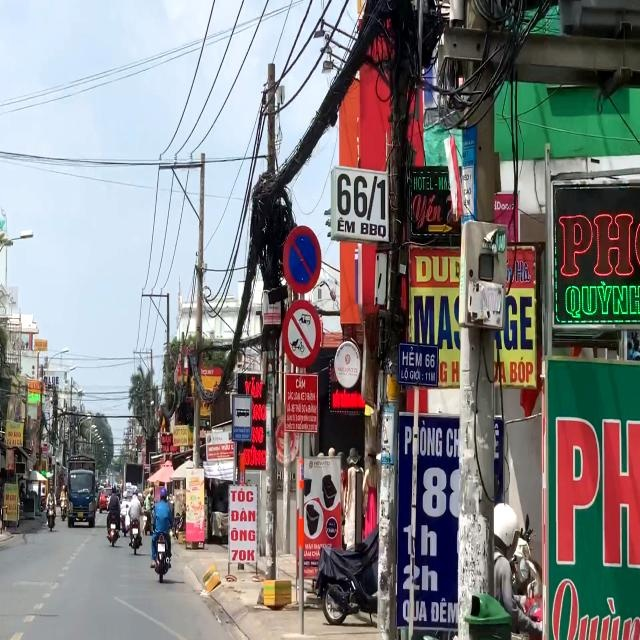bien_cam: (283, 224, 322, 294)
